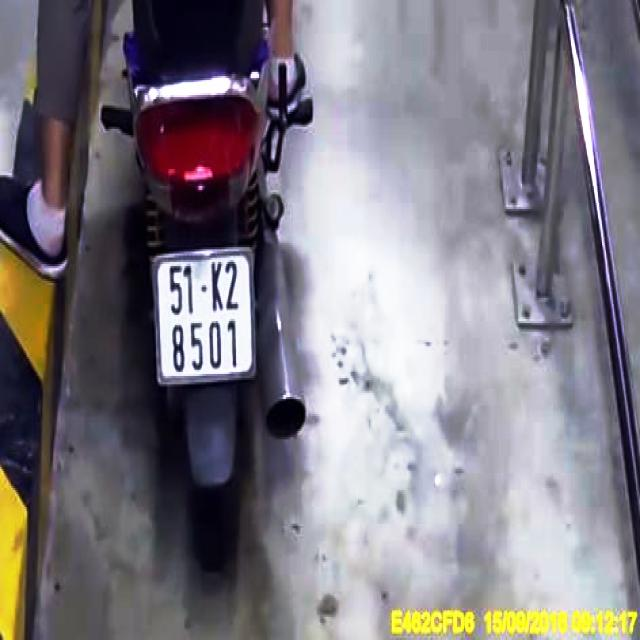license_plate: (154, 249, 257, 387)
